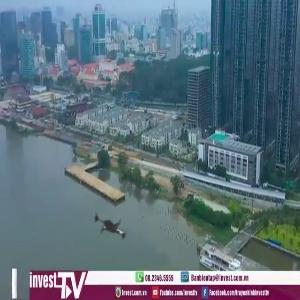drone: (74, 194, 148, 268)
